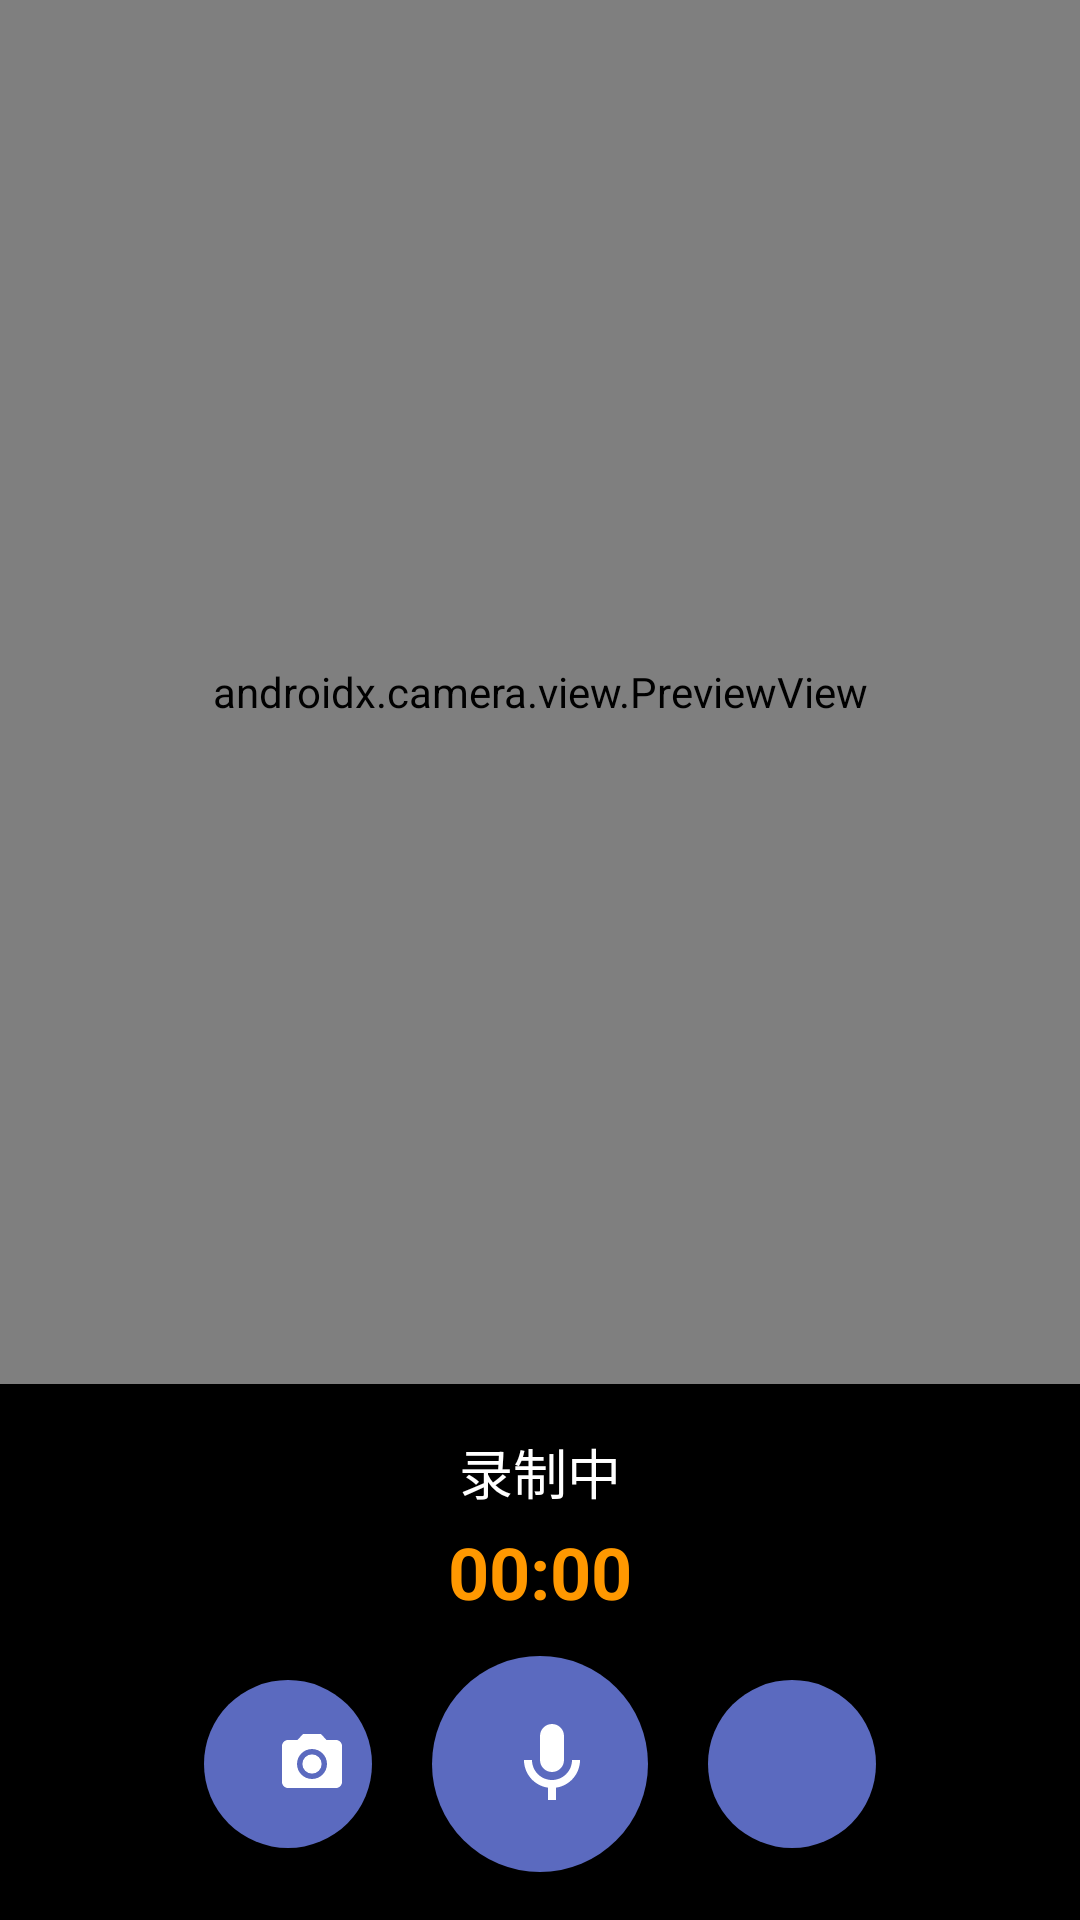

Icon bounding boxes for this 1080px x 1920px phone screenshot, format (x1, y1, x2, y2):
camera: (204, 1680, 372, 1848)
mic: (432, 1656, 648, 1872)
